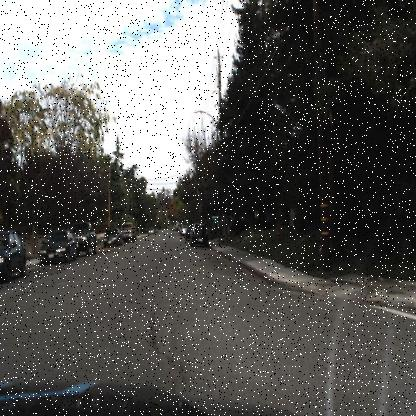car: (36, 227, 82, 269), (0, 230, 29, 284), (76, 217, 100, 257), (188, 221, 210, 249), (101, 224, 124, 249), (122, 218, 139, 242)
